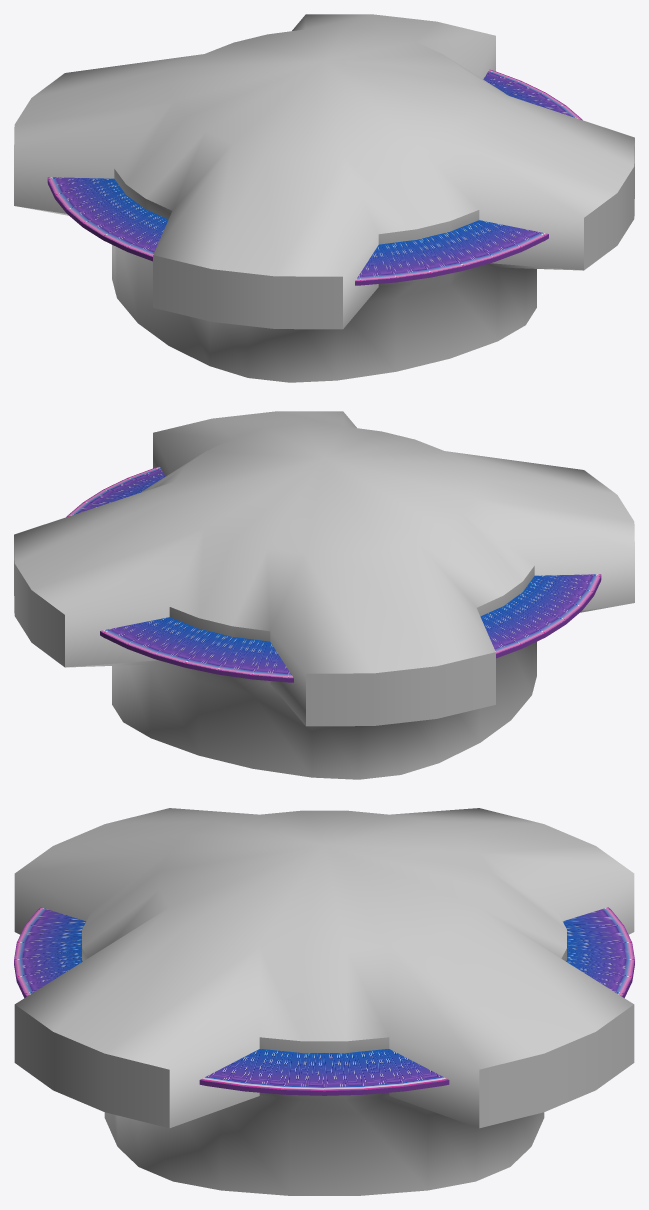
The model's file is dbruin01.FBX.
3 views of the same model, one above another, from view 1: azimuth 30°, elevation 25°; view 2: azimuth 150°, elevation 25°; view 3: azimuth 270°, elevation 25° (orthographic). The views are drawn at different scales.
Visible parts, largest first — view 1: dbruin01, disc__2e; view 2: dbruin01, disc__2e; view 3: dbruin01, disc__2e.
Boxes of the visible parts, box(x1,y1,x2,y2) form: dbruin01: box(14, 14, 634, 382); disc__2e: box(47, 69, 582, 285); dbruin01: box(14, 411, 634, 779); disc__2e: box(66, 466, 601, 682); dbruin01: box(14, 808, 634, 1195); disc__2e: box(14, 907, 634, 1095).
Size of the model in its own units: 48 by 22 by 48.
